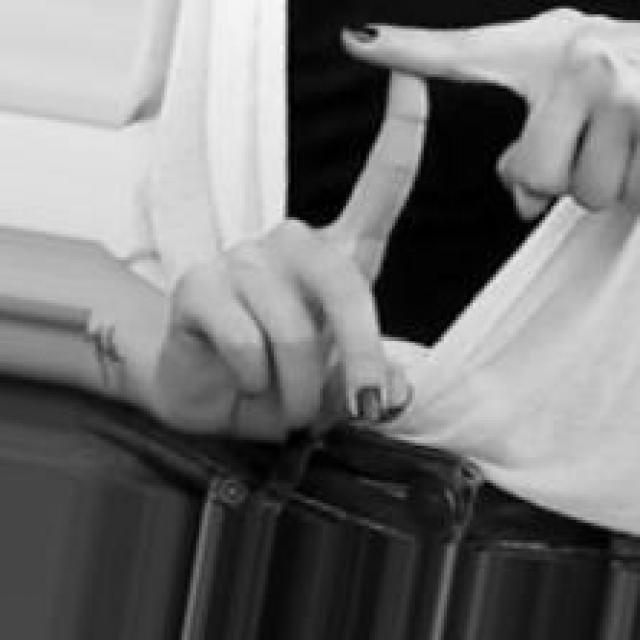T: (155, 1, 640, 446)
